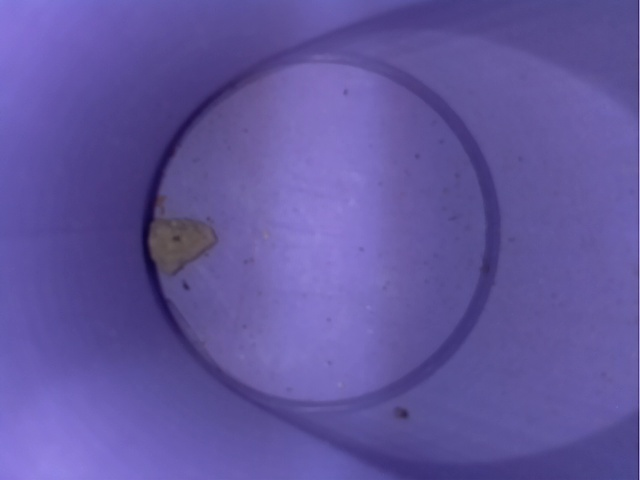caillou: (133, 206, 226, 276)
